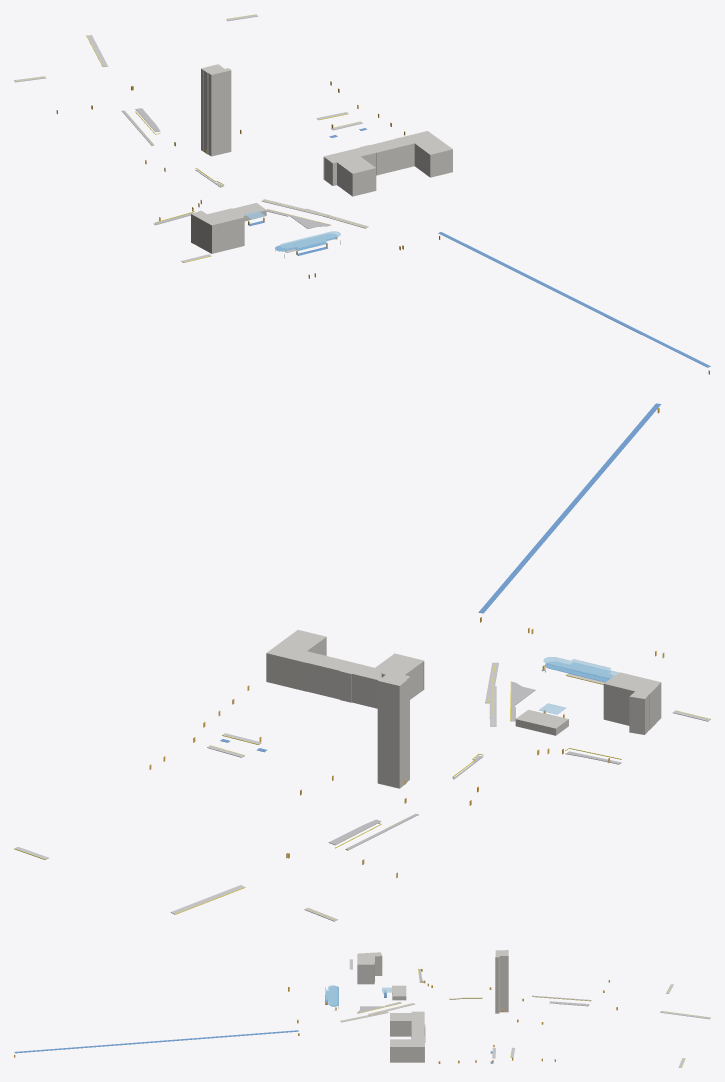
File: zytglogge.glb
The picture shows the model from 3 angles, top to bottom: view 1: azimuth 30°, elevation 25°; view 2: azimuth 150°, elevation 25°; view 3: azimuth 270°, elevation 25°; orthographic projection. The views are drawn at different scales.
Parts seen in each view (by area): view 1: building_part@x, passage@1, platform_body@0, platform_surface@0, roof@0, boarding_edge@0; view 2: building_part@x, platform_body@0, passage@1, platform_surface@0, roof@0, boarding_edge@0; view 3: building_part@x, passage@1, platform_body@0, platform_surface@0, boarding_edge@0, roof@0, shelter@0.
Part boxes in pixels (box(x1,y1,x2,y2)): building_part@x: box(191, 64, 452, 253); passage@1: box(438, 232, 710, 367); platform_body@0: box(14, 14, 368, 262); platform_surface@0: box(122, 108, 330, 228); roof@0: box(244, 210, 340, 248); boarding_edge@0: box(15, 14, 366, 262); building_part@x: box(266, 630, 661, 788); platform_body@0: box(15, 662, 710, 921); passage@1: box(478, 403, 661, 613); platform_surface@0: box(328, 681, 621, 849); roof@0: box(539, 657, 618, 714); boarding_edge@0: box(14, 662, 710, 920); building_part@x: box(357, 950, 508, 1062); passage@1: box(14, 1030, 298, 1053); platform_body@0: box(340, 959, 710, 1067); platform_surface@0: box(357, 969, 591, 1013); boarding_edge@0: box(341, 959, 710, 1067); roof@0: box(325, 985, 392, 1005); shelter@0: box(325, 986, 338, 1008).
Bounding box in the file's own units: 201 × 54.62 × 560.
